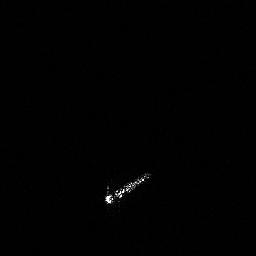ship: (99, 167, 154, 210)
